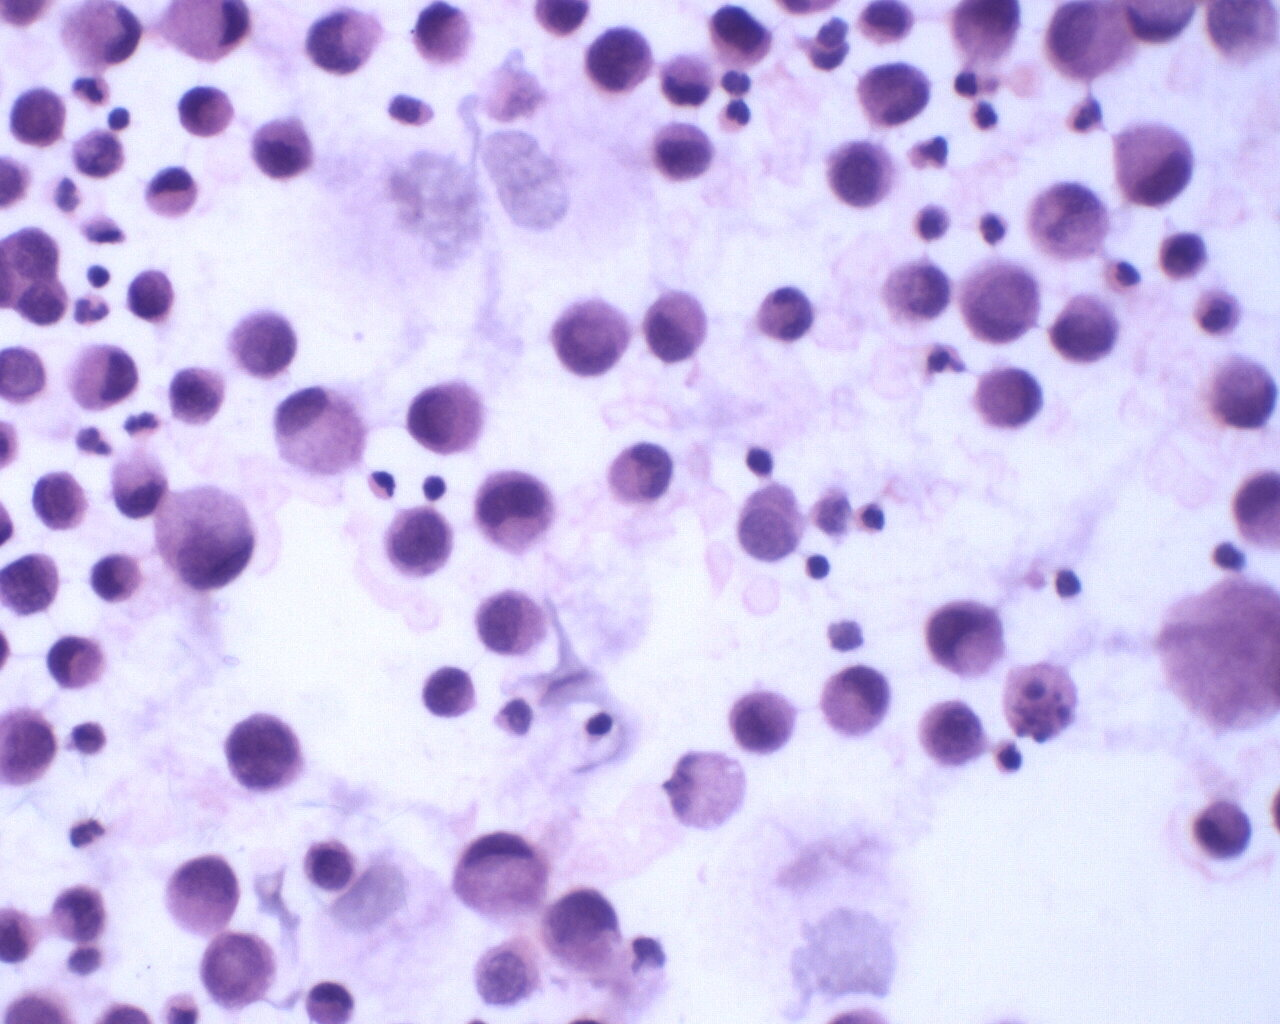ab: (150, 483, 255, 594), (217, 707, 310, 799), (1110, 120, 1197, 207), (546, 288, 629, 380), (961, 257, 1045, 347), (378, 501, 461, 582), (823, 132, 901, 213), (401, 376, 484, 452), (734, 482, 808, 564), (201, 931, 275, 1010), (300, 8, 387, 76), (580, 21, 653, 100), (1048, 290, 1123, 367), (853, 59, 930, 127), (249, 116, 321, 188), (476, 586, 551, 656), (915, 698, 985, 771), (731, 685, 802, 757), (647, 117, 717, 186), (705, 1, 774, 66), (1, 550, 65, 618), (30, 468, 91, 539), (164, 364, 229, 429), (7, 85, 66, 149), (124, 269, 184, 326), (420, 665, 476, 723), (1158, 224, 1207, 281)
histo: (449, 832, 554, 930), (266, 386, 374, 476)
lymph: (800, 551, 836, 586), (419, 466, 450, 501), (101, 103, 133, 135)
meso: (163, 851, 242, 937)
neutro: (1064, 92, 1108, 139), (68, 290, 117, 330), (68, 68, 113, 110), (974, 203, 1010, 248), (717, 100, 754, 139)
